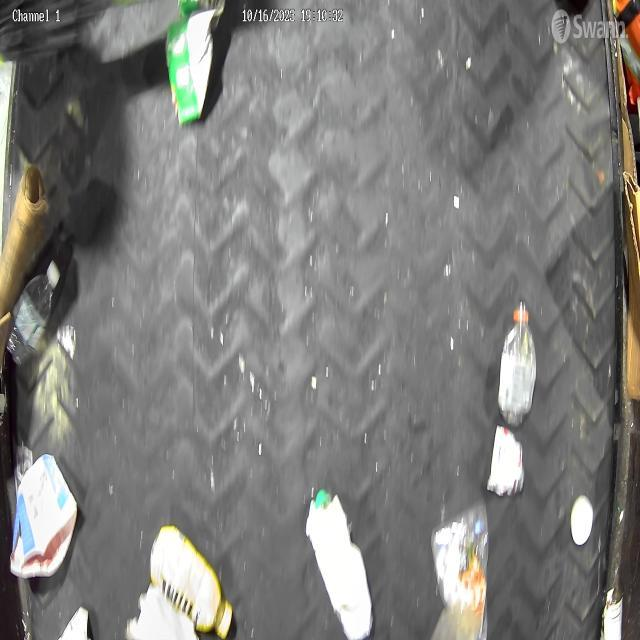can: (486, 424, 526, 502), (599, 582, 627, 640)
plastic_bottle: (1, 258, 62, 369), (496, 298, 538, 427)
